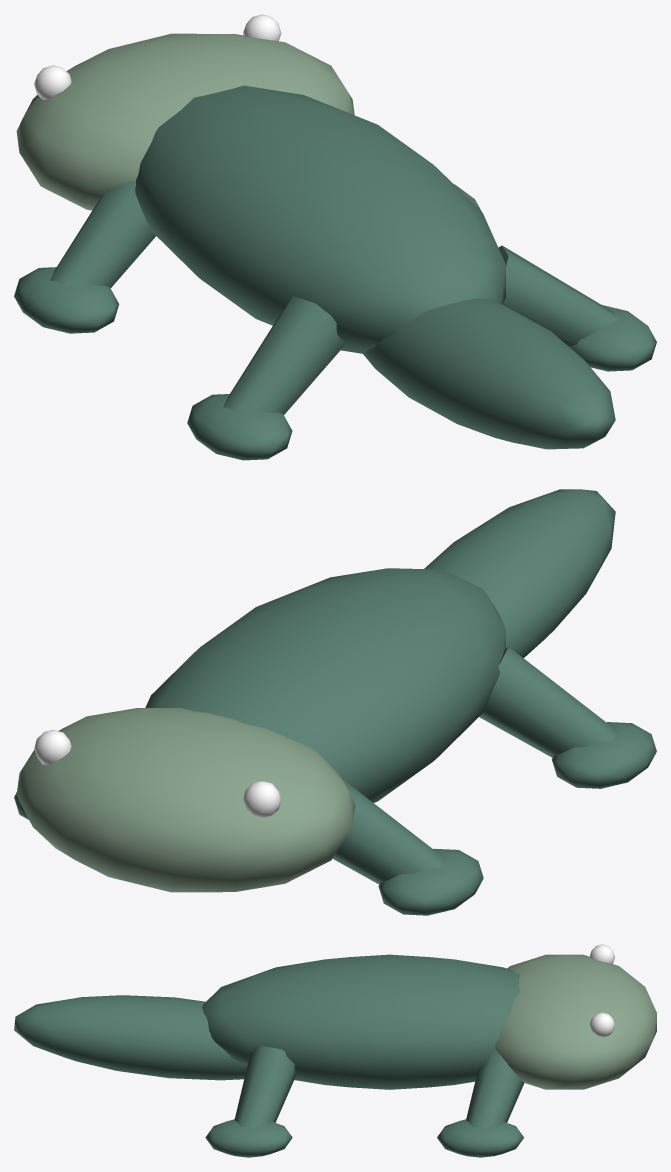
The model's file is tetrapod.glb.
3 renders of one model, top to bottom at view 1: azimuth 30°, elevation 25°; view 2: azimuth 150°, elevation 25°; view 3: azimuth 270°, elevation 25°, orthographic. The views are drawn at different scales.
Size of the model in its own units: 2.01 by 0.8003 by 3.75.
